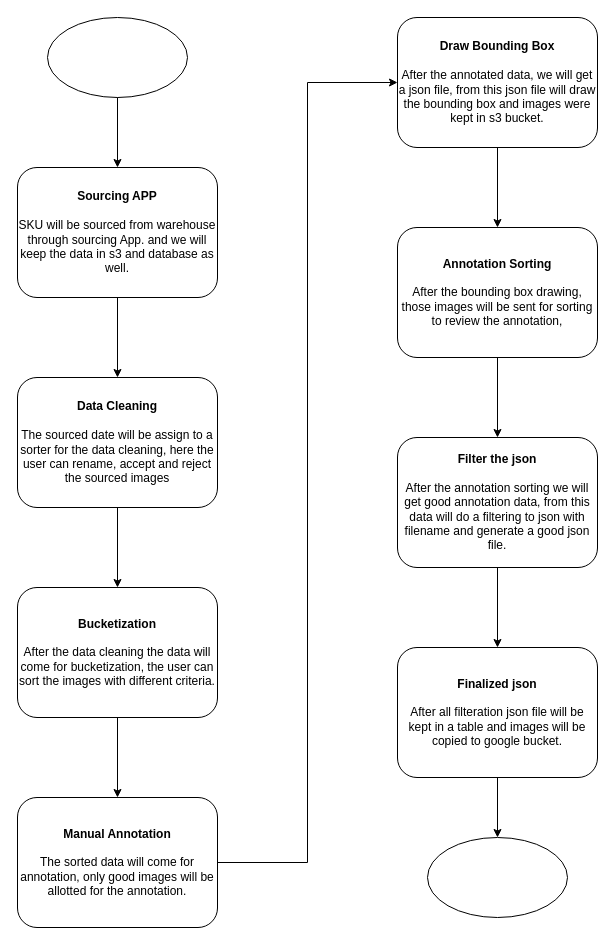
Some shapes in this 615 by 945 pixel diagram are drawn without their labels. The shapes that lost their labels are listed below. From the top down, each one's box as (x1, y1, x2, y2) in pixels, then its label:
(46, 16, 188, 98): Start
(426, 836, 568, 918): Stop
